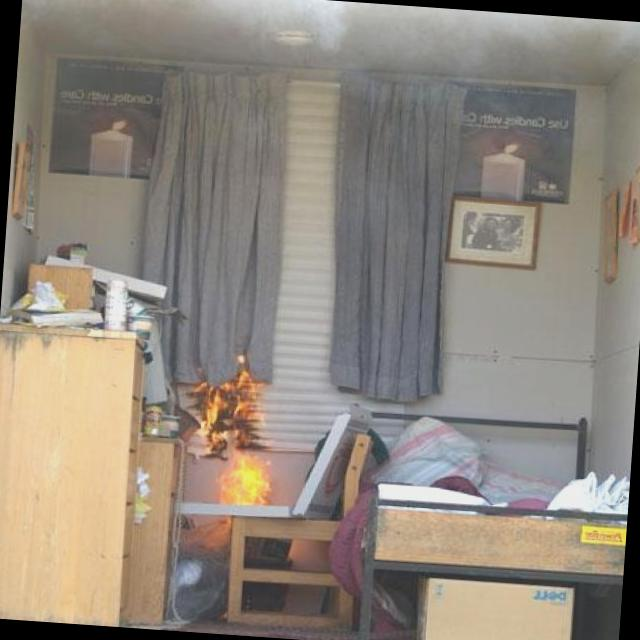fire: (180, 358, 294, 518)
smoke: (18, 0, 640, 89)
